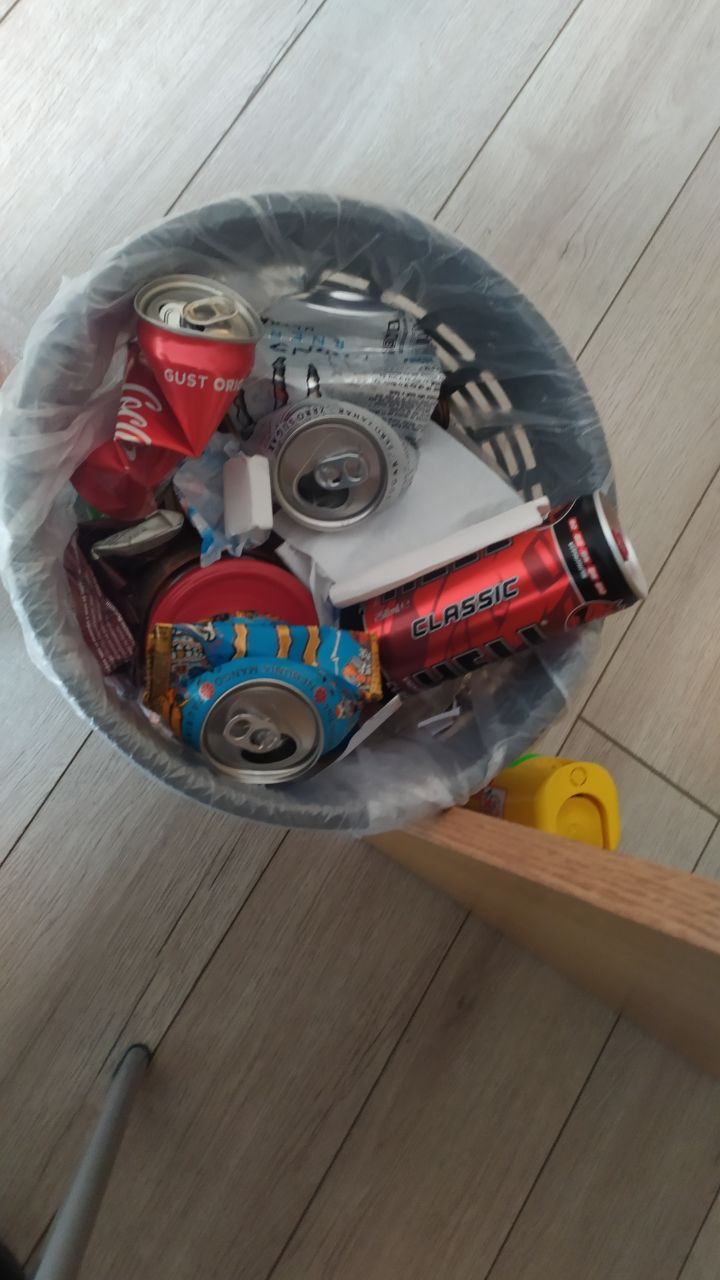Can: (351, 491, 648, 696), (247, 299, 448, 537), (60, 277, 247, 516), (141, 620, 381, 781)
